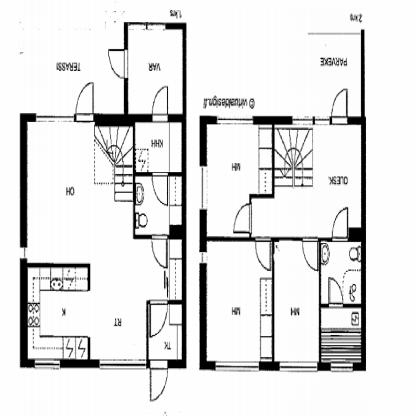door: (76, 77, 96, 124), (106, 46, 130, 81), (149, 299, 168, 340), (150, 359, 168, 402), (332, 84, 349, 126), (331, 206, 350, 243), (301, 235, 319, 274), (231, 201, 252, 234), (151, 233, 168, 269), (254, 236, 272, 270), (151, 173, 168, 207), (327, 275, 343, 307)
window: (215, 360, 259, 372), (99, 359, 145, 369), (280, 361, 316, 372), (292, 115, 328, 126), (199, 166, 208, 210), (218, 113, 252, 124), (36, 112, 74, 121), (33, 360, 60, 371), (330, 361, 352, 372), (20, 246, 27, 259), (198, 250, 206, 261)
zone: (27, 122, 182, 360), (250, 122, 359, 236), (207, 240, 271, 360), (206, 124, 272, 238), (274, 241, 318, 364), (128, 26, 182, 113), (308, 34, 361, 116), (320, 237, 361, 304), (134, 177, 181, 235), (134, 121, 181, 173), (320, 308, 362, 364), (148, 302, 182, 360)
